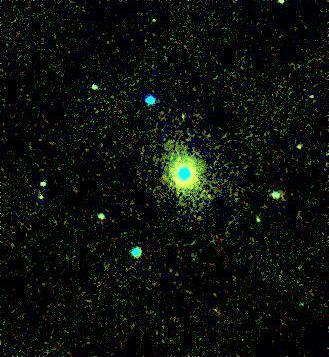star: (168, 103, 198, 133)
